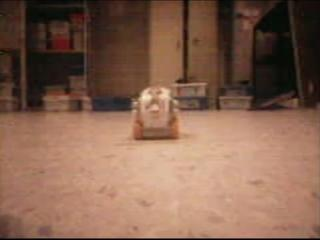cozmo: (130, 84, 182, 140)
